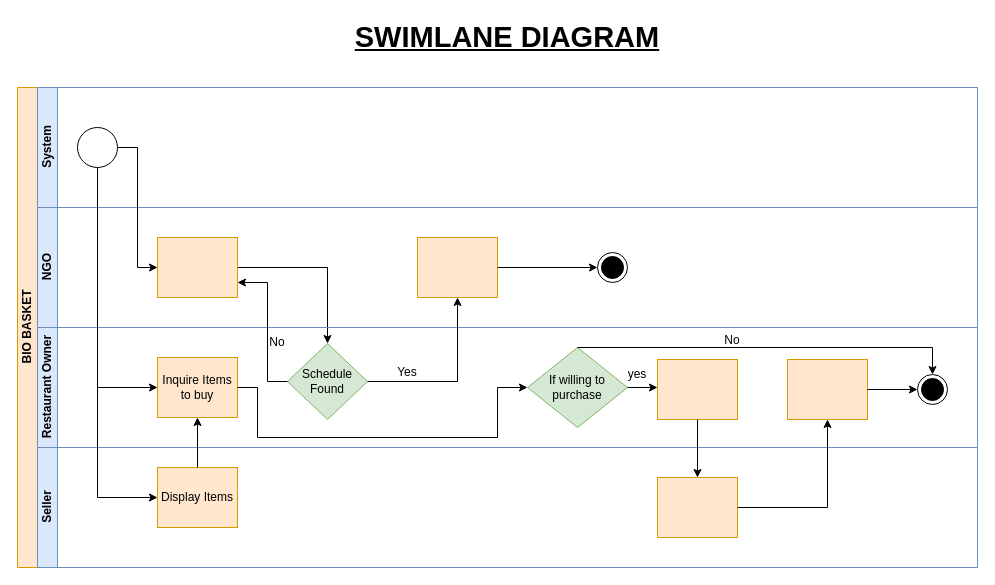
The diagram is 995 pixels wide and 585 high, and some of its shapes have lost their labels. Each missing label, with the centre of its shape:
"Collect Waste Food from Restaurants" goes at pixel 457 267.
"Display Purchase info" goes at pixel 697 507.
"Inquire for Waste Collection" goes at pixel 197 267.
"Select Quantity to purchase" goes at pixel 697 389.
"Show Confirmation" goes at pixel 827 389.
